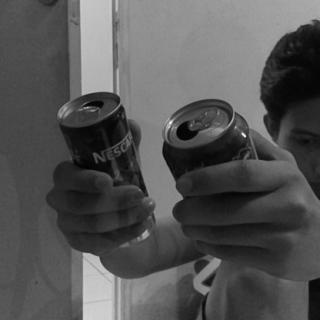alumunium_can: (57, 90, 157, 244), (161, 98, 258, 188)
